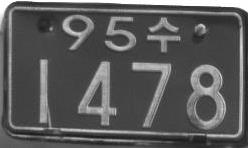1: (25, 58, 61, 124)
4: (77, 61, 117, 127)
5: (104, 15, 137, 52)
7: (131, 60, 171, 128)
8: (185, 63, 226, 131)
9: (61, 13, 95, 50)
수: (146, 16, 180, 54)
